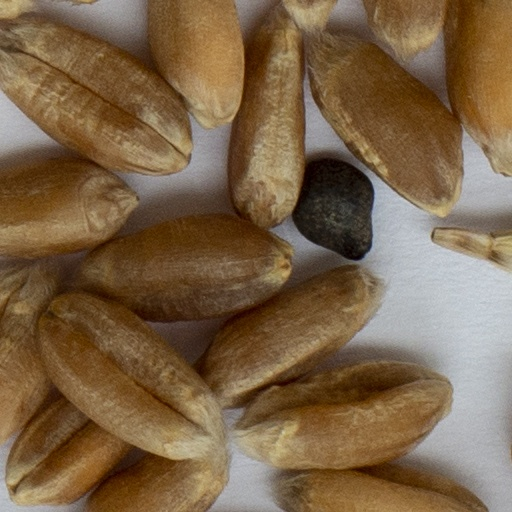Peel-poly: (429, 221, 511, 274)
